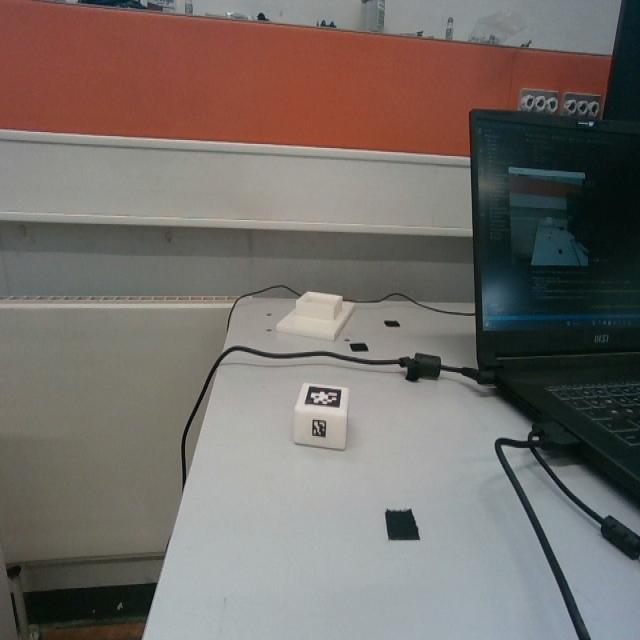Cube: (294, 382, 351, 449)
